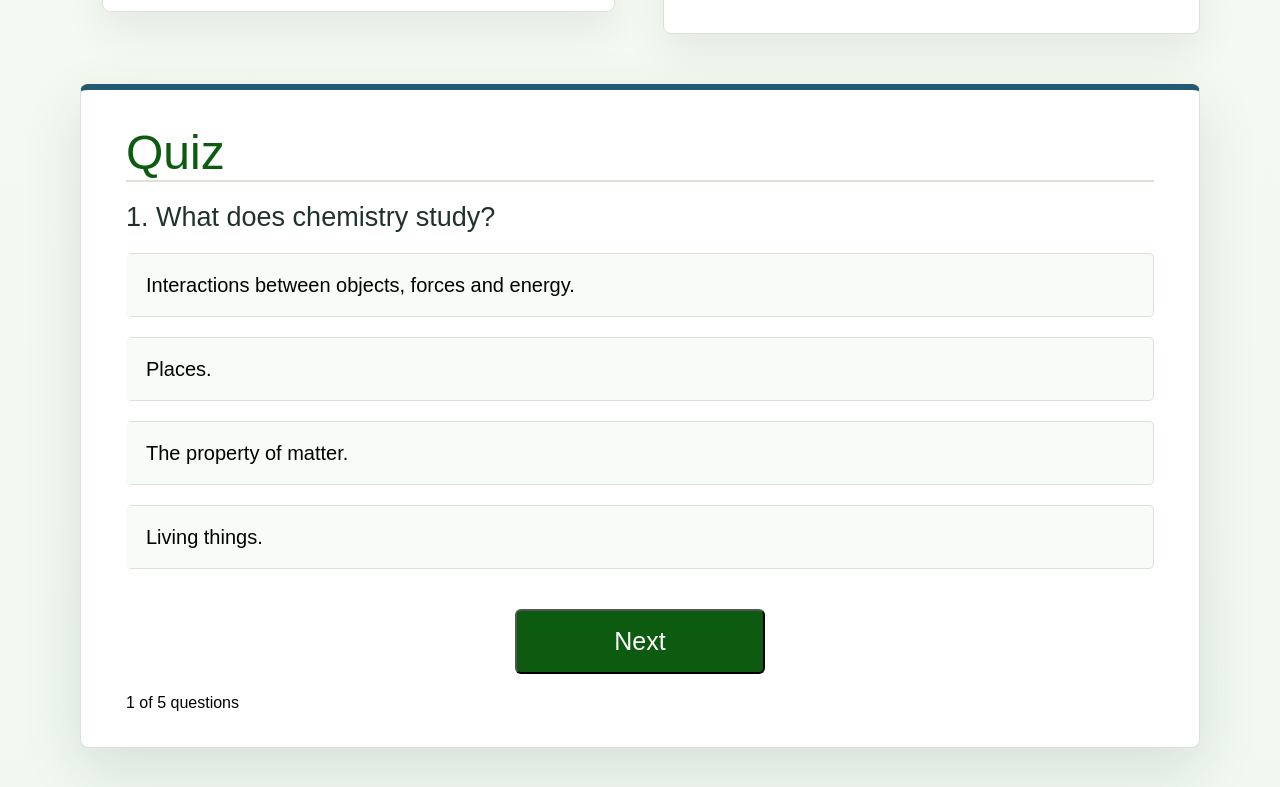
Test: moves to the next quiz question after a correct answer
The width and height of the screenshot is (1280, 787).
(page scrolled)
Expected: the heading "1. What does chemistry study?" is shown, [126,202,495,232]
Click the list item "The property of matter.". click: (640, 453)
box: [126,421,1154,485]
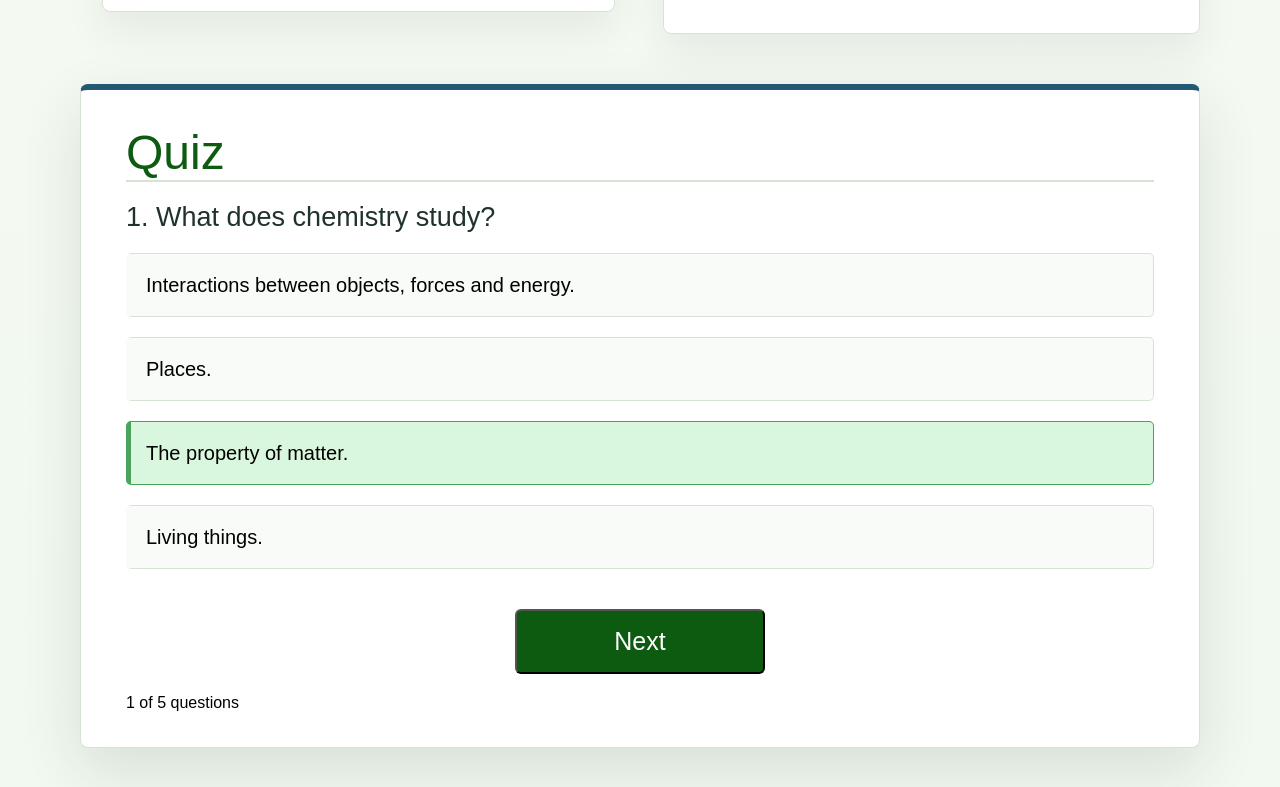
Click the button "Next". click: (640, 642)
box: [515,609,765,674]
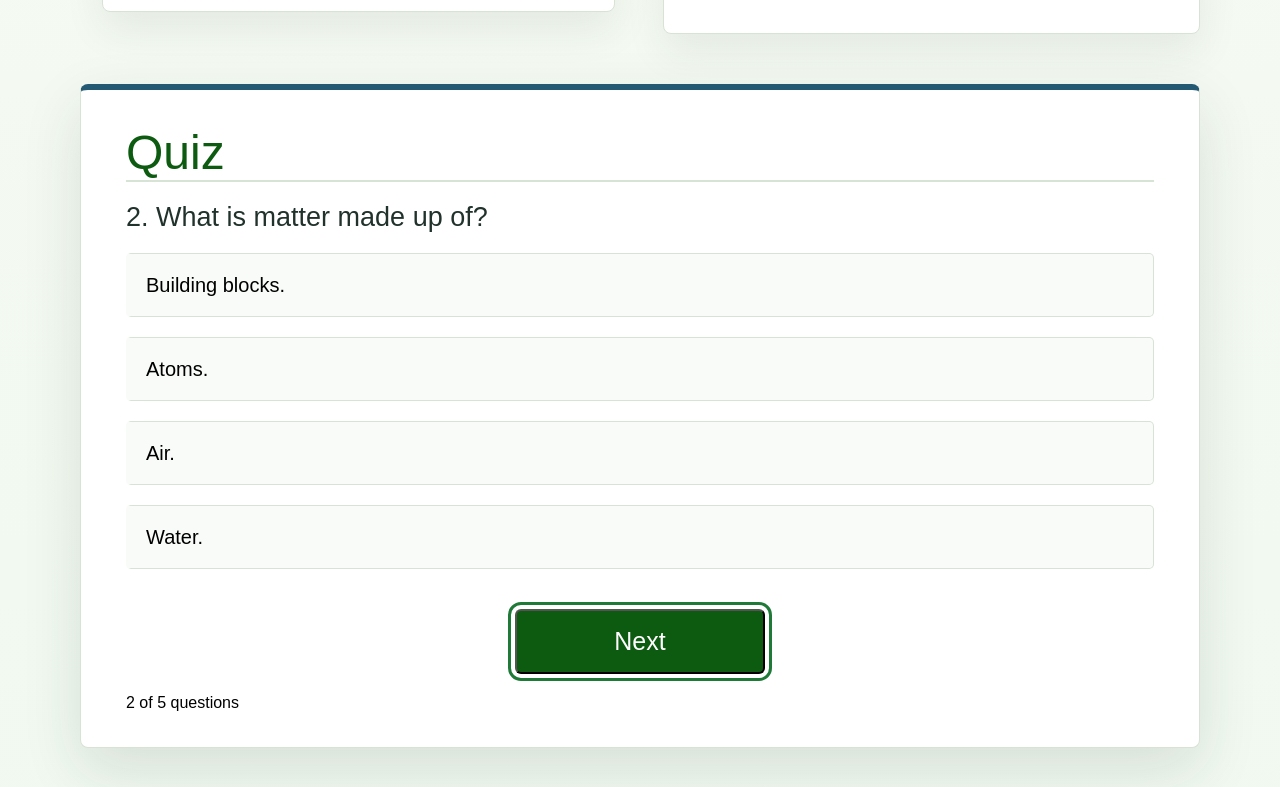
Now the heading "2. What is matter made up of?" is shown, box [126,202,488,232]
Now the text "2 of 5 questions" is shown, box [126,694,239,711]
